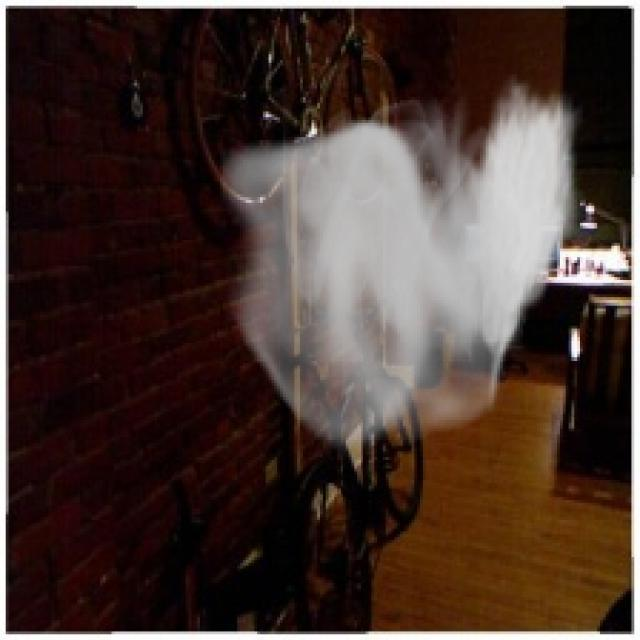Smoke: (220, 74, 583, 460)
